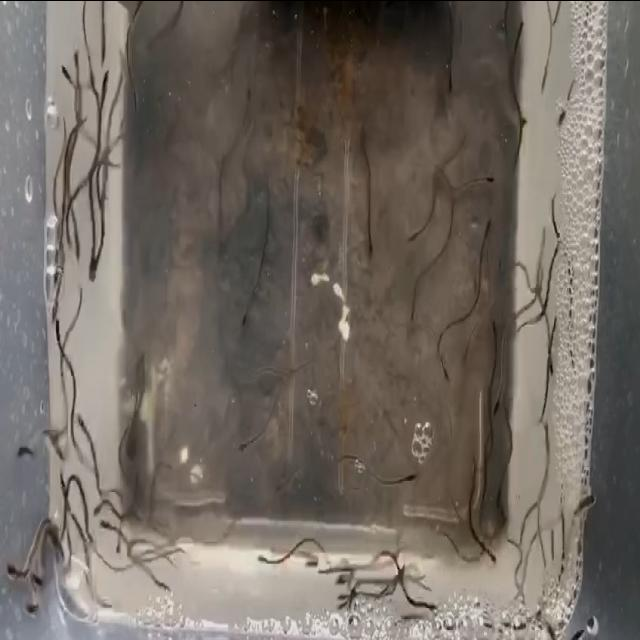inactive_glass_eel: (566, 485, 600, 528), (472, 158, 502, 200), (86, 480, 112, 523), (402, 208, 422, 262), (330, 538, 350, 592), (90, 58, 118, 96), (82, 251, 104, 295), (488, 382, 511, 424), (362, 222, 382, 270), (477, 537, 503, 573), (424, 582, 448, 621), (6, 546, 24, 592), (29, 553, 51, 590), (238, 293, 258, 333), (70, 408, 88, 450), (398, 457, 420, 491), (18, 431, 36, 469), (430, 358, 450, 390), (404, 288, 419, 330), (22, 596, 42, 626), (54, 61, 74, 90), (70, 40, 86, 76), (532, 70, 548, 106), (255, 540, 272, 572), (342, 575, 358, 607), (234, 433, 248, 467), (553, 108, 571, 134), (54, 312, 64, 358), (514, 18, 530, 46), (92, 518, 116, 534), (444, 70, 456, 97)
